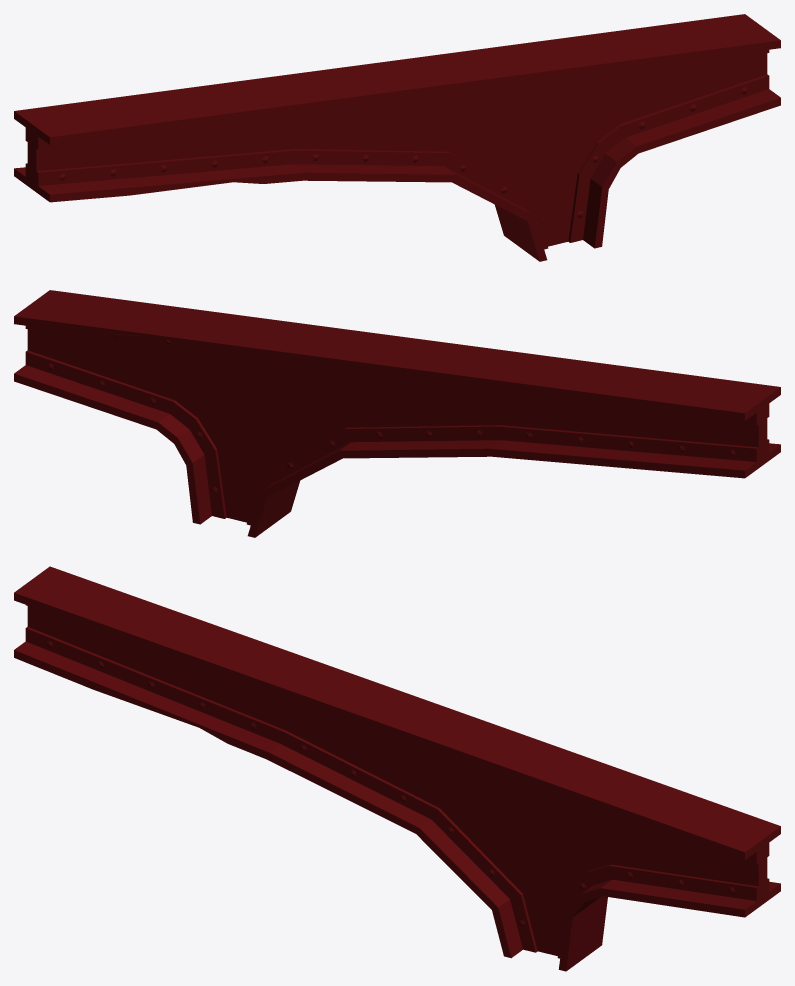
Rendered from SW_ENV_EL_Station_RoofBeam.fbx.
3 renders of one model, top to bottom at view 1: azimuth 30°, elevation 25°; view 2: azimuth 150°, elevation 25°; view 3: azimuth 330°, elevation 25°, orthographic.
Parts seen in each view (by area): view 1: SW_ENV_EL_Station_RoofBeam; view 2: SW_ENV_EL_Station_RoofBeam; view 3: SW_ENV_EL_Station_RoofBeam.
Boxes of the visible parts, x1,y1,x2,y2 form: SW_ENV_EL_Station_RoofBeam: (14,14,780,261); SW_ENV_EL_Station_RoofBeam: (14,290,780,537); SW_ENV_EL_Station_RoofBeam: (14,566,780,971).
Bounding box in the file's own units: 470 × 150 × 40.
